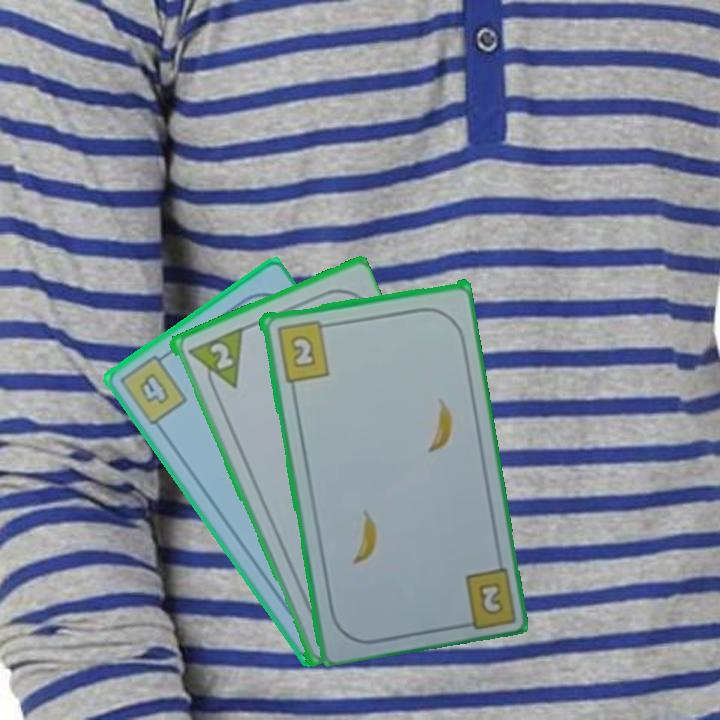2b: (272, 316, 334, 384), (474, 578, 506, 618)
2p: (184, 324, 245, 398)
4b: (115, 348, 190, 429)
